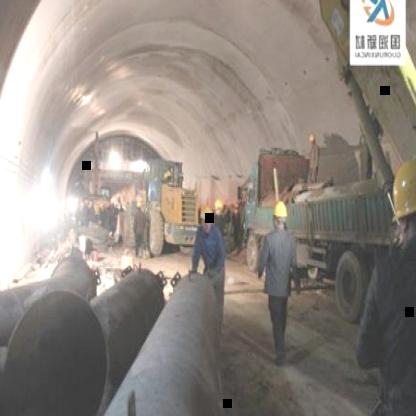helmet: (386, 151, 416, 230), (271, 197, 290, 223), (197, 206, 213, 224)
